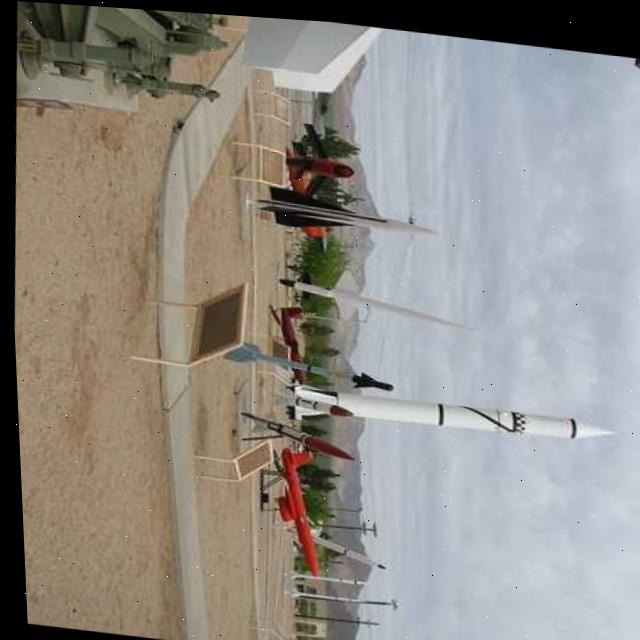missile: (301, 372, 610, 450), (280, 263, 478, 332), (259, 184, 437, 242), (219, 338, 392, 390), (224, 409, 356, 458)
